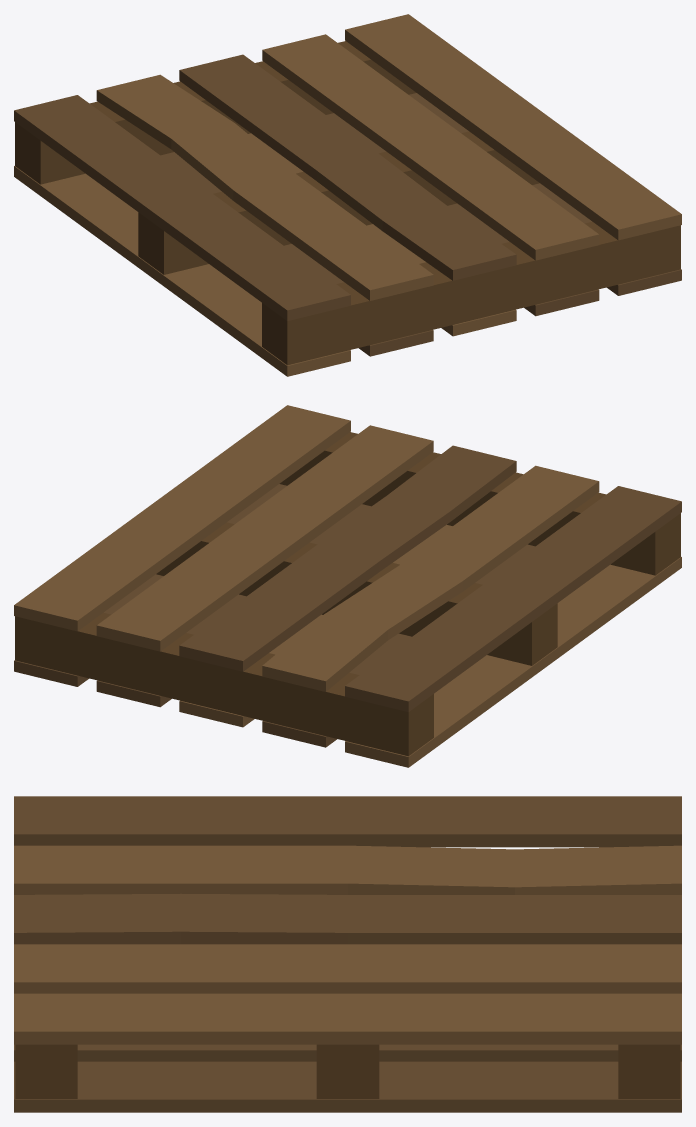
Rendered from SM_Pallet_01.glb.
The picture shows the model from 3 angles, top to bottom: view 1: azimuth 30°, elevation 25°; view 2: azimuth 150°, elevation 25°; view 3: azimuth 270°, elevation 25°; orthographic projection. The views are drawn at different scales.
Parts seen in each view (by area): view 1: SM_Pallet_01; view 2: SM_Pallet_01; view 3: SM_Pallet_01.
Boxes of the visible parts, x1=… form: SM_Pallet_01: x1=14, y1=14, x2=681, y2=376; SM_Pallet_01: x1=14, y1=405, x2=681, y2=767; SM_Pallet_01: x1=14, y1=796, x2=681, y2=1112.
Size of the model in its own units: 1.25 by 0.2009 by 1.5.
Materials: 1 (1 with a texture image).
